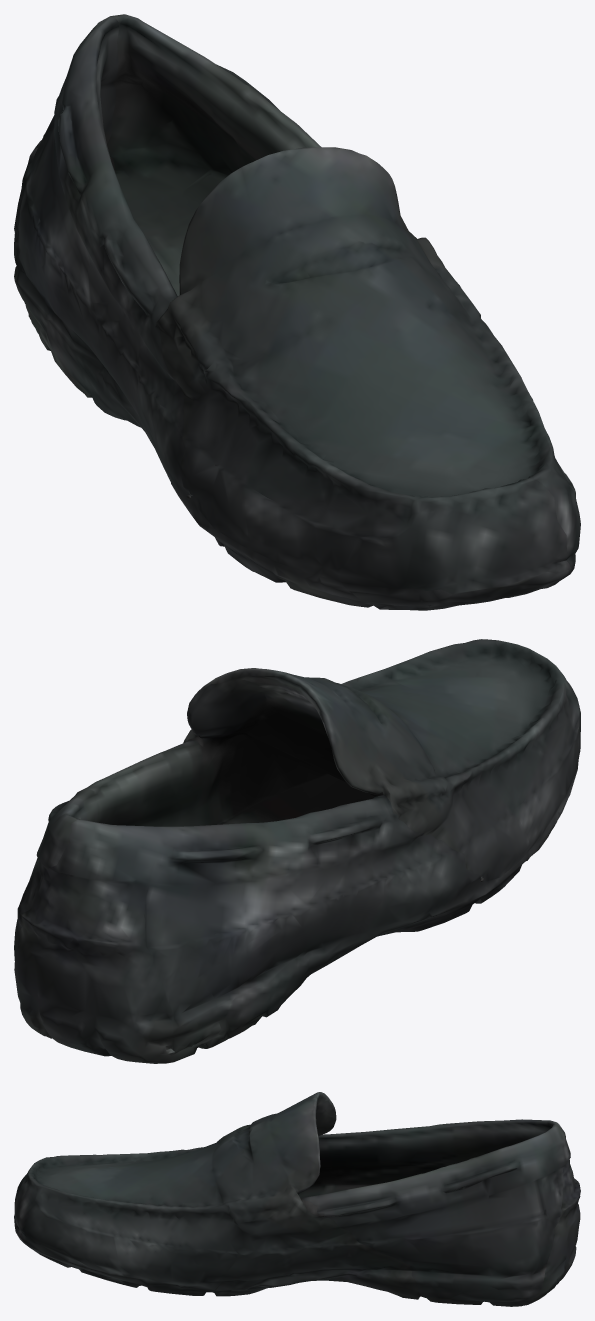
Rendered from Mens_Gold_Cup_ASV_Capetown_Penny_Loafer_in_Black_GkQBKqABeQN-high.glb.
The picture shows the model from 3 angles, top to bottom: view 1: azimuth 30°, elevation 25°; view 2: azimuth 150°, elevation 25°; view 3: azimuth 270°, elevation 25°; orthographic projection. The views are drawn at different scales.
Parts seen in each view (by area): view 1: Mens_Gold_Cup_ASV_Capetown_Penny_Loafer_in_Black_GkQBKqABeQN; view 2: Mens_Gold_Cup_ASV_Capetown_Penny_Loafer_in_Black_GkQBKqABeQN; view 3: Mens_Gold_Cup_ASV_Capetown_Penny_Loafer_in_Black_GkQBKqABeQN.
Part boxes in pixels (x1,y1,x2,y2): Mens_Gold_Cup_ASV_Capetown_Penny_Loafer_in_Black_GkQBKqABeQN: (14,14,580,610); Mens_Gold_Cup_ASV_Capetown_Penny_Loafer_in_Black_GkQBKqABeQN: (14,639,580,1063); Mens_Gold_Cup_ASV_Capetown_Penny_Loafer_in_Black_GkQBKqABeQN: (14,1092,580,1306).
Size of the model in its own units: 0.1035 by 0.1021 by 0.29.
Materials: 1 (1 with a texture image).
